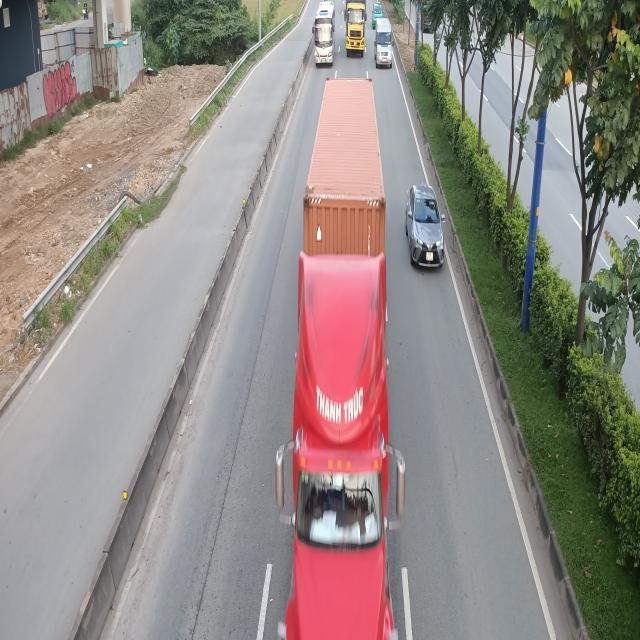car: (407, 182, 447, 268)
coach: (315, 4, 339, 69)
container: (270, 62, 403, 634)
truck: (344, 0, 368, 56)
van: (374, 19, 394, 68)
